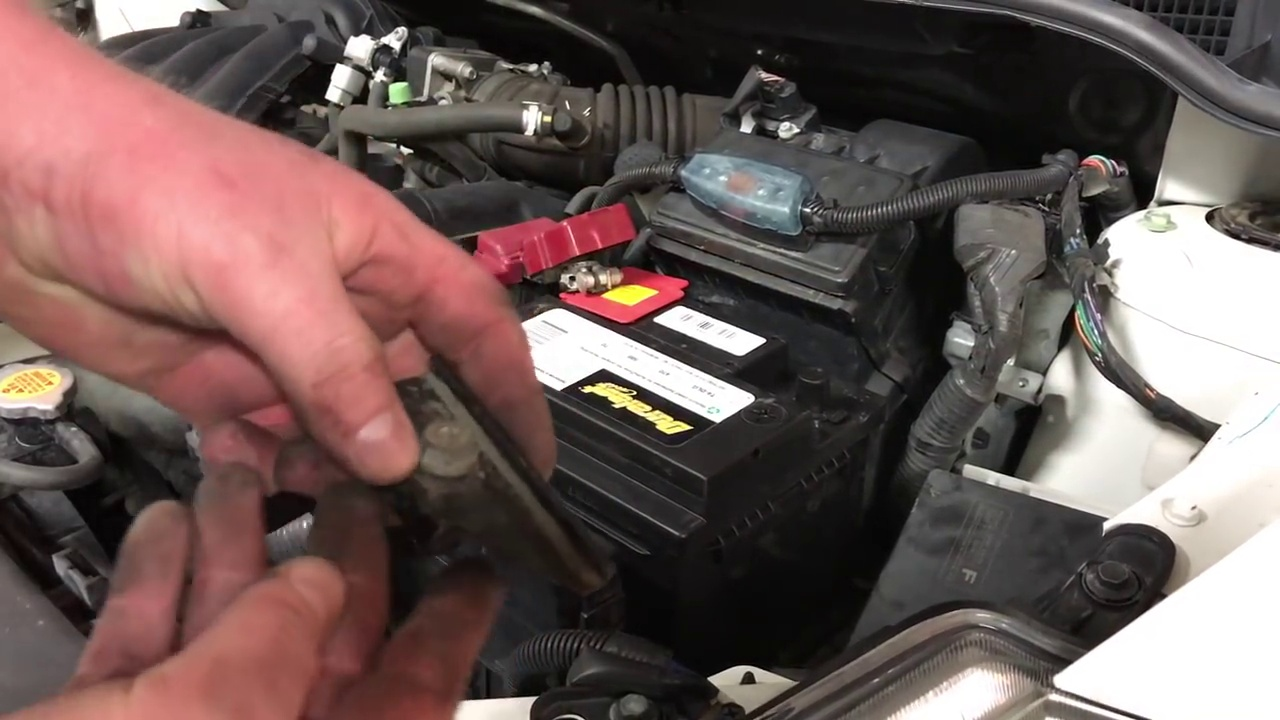battery: (458, 219, 838, 484)
pos_connected: (485, 212, 679, 324)
pos_touched: (380, 168, 680, 354)
